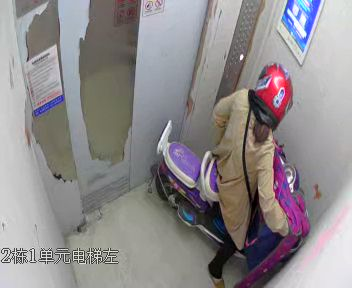Electric-bicycle: (148, 121, 312, 264)
